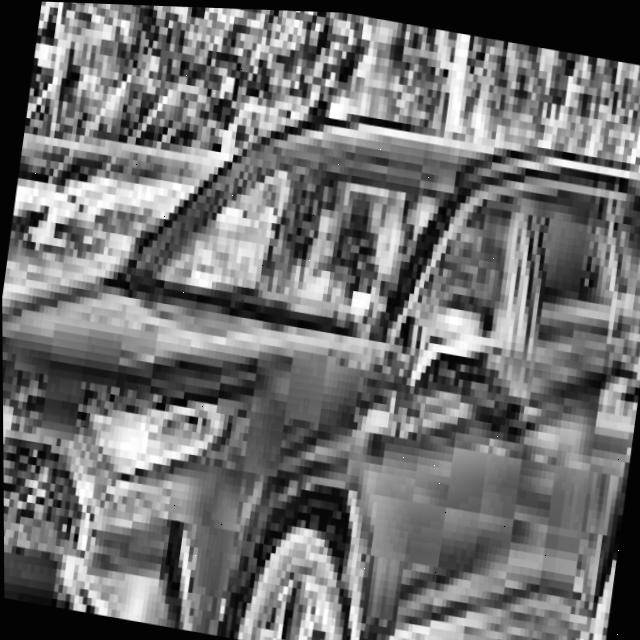light_vehicle: (0, 49, 640, 640)
